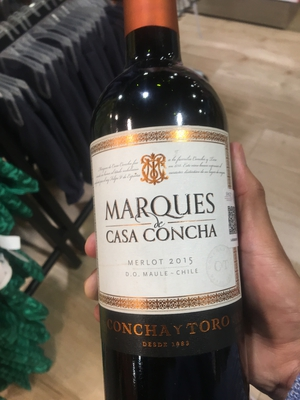marques de casa concha merlot: (76, 6, 268, 367)
